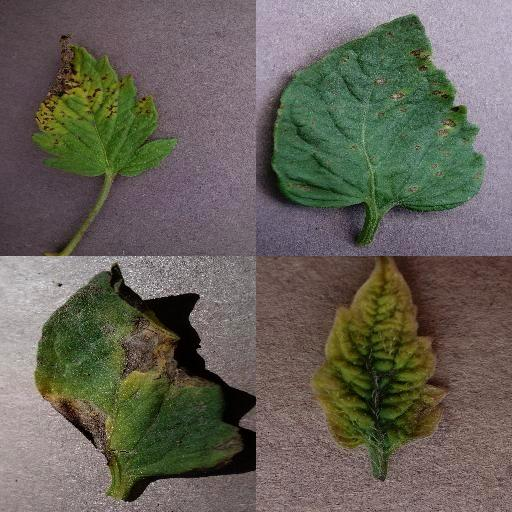Early Blight: (34, 263, 244, 477)
Septoria: (275, 14, 483, 212), (33, 33, 178, 181)
Yellow Leaf Curl Virus: (312, 256, 449, 452)
